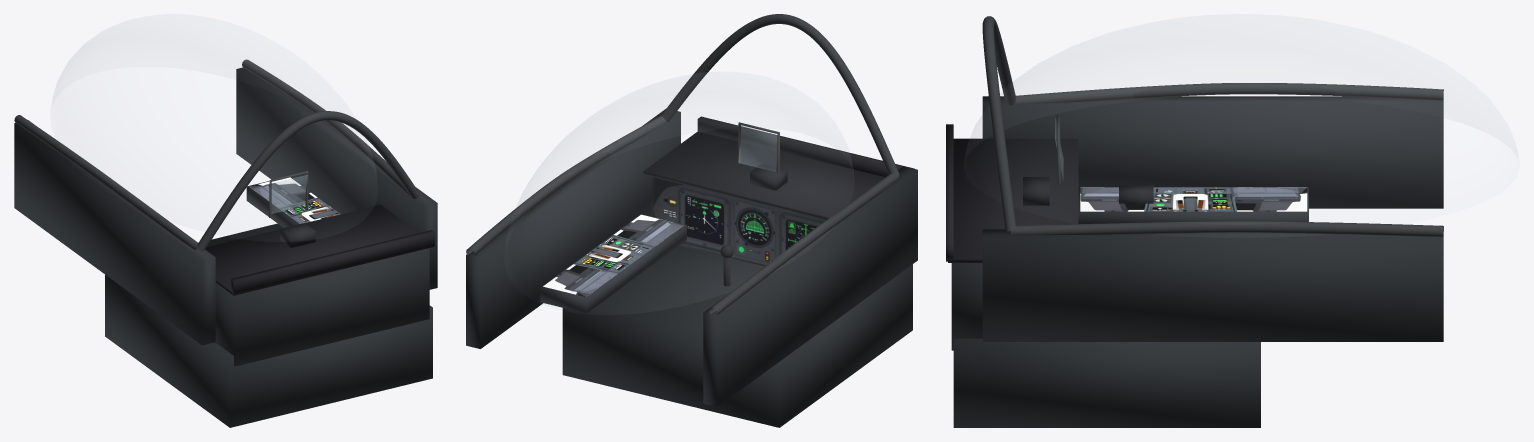
File: cockpit.glb
3 renders of one model, left to right at view 1: azimuth 30°, elevation 25°; view 2: azimuth 150°, elevation 25°; view 3: azimuth 270°, elevation 25°, orthographic. The views are drawn at different scales.
Visible parts, largest first — view 1: Cube.007, Cube, Cube.002, Cube.001, Cube.003, Cube.004, bow, rail-1, Plane.002, rail1, Cube.005, Cube.009 (+1 smaller); view 2: Cube.007, Cube, Cube.001, Cube.003, Plane, Plane.002, bow, Cube.004, Cube.009, rail1, rail-1, Cube.005 (+1 smaller); view 3: Cube.001, Cube, Cube.007, Cube.003, Plane.001, rail1, rail-1, bow, Cube.008, Cube.002, Cube.004, Cube.006 (+1 smaller).
Part boxes in pixels (x1,y1,x2,y2): Cube.007: (105, 223, 432, 427); Cube: (14, 120, 215, 345); Cube.002: (215, 248, 429, 366); Cube.001: (236, 67, 437, 289); Cube.003: (205, 204, 433, 295); Cube.004: (231, 230, 434, 295); bow: (196, 111, 420, 251); rail-1: (14, 115, 197, 250); Plane.002: (249, 177, 340, 223); rail1: (242, 59, 409, 195); Cube.005: (272, 175, 307, 213); Cube.009: (246, 177, 341, 227); Cube.007: (562, 245, 912, 427); Cube: (703, 166, 917, 406); Cube.001: (466, 109, 680, 348); Cube.003: (643, 131, 884, 219); Plane: (653, 177, 826, 264); Plane.002: (543, 214, 683, 296); bow: (661, 14, 899, 174); Cube.004: (697, 116, 914, 177); Cube.009: (540, 214, 686, 313); rail1: (466, 116, 666, 255); rail-1: (709, 173, 899, 314); Cube.005: (738, 126, 777, 171); Cube.001: (982, 229, 1443, 341); Cube: (982, 96, 1443, 208); Cube.007: (953, 338, 1260, 427); Cube.003: (948, 138, 1078, 262); Plane.001: (1080, 187, 1307, 211); rail1: (1011, 221, 1443, 236); rail-1: (1014, 83, 1443, 104); bow: (982, 16, 1016, 231); Cube.008: (1078, 187, 1308, 224); Cube.002: (951, 263, 982, 350); Cube.004: (946, 124, 953, 261); Cube.006: (1023, 177, 1049, 205).
Size of the model in its own units: 1.77 by 1.98 by 2.99.
8 materials, 3 textured.
